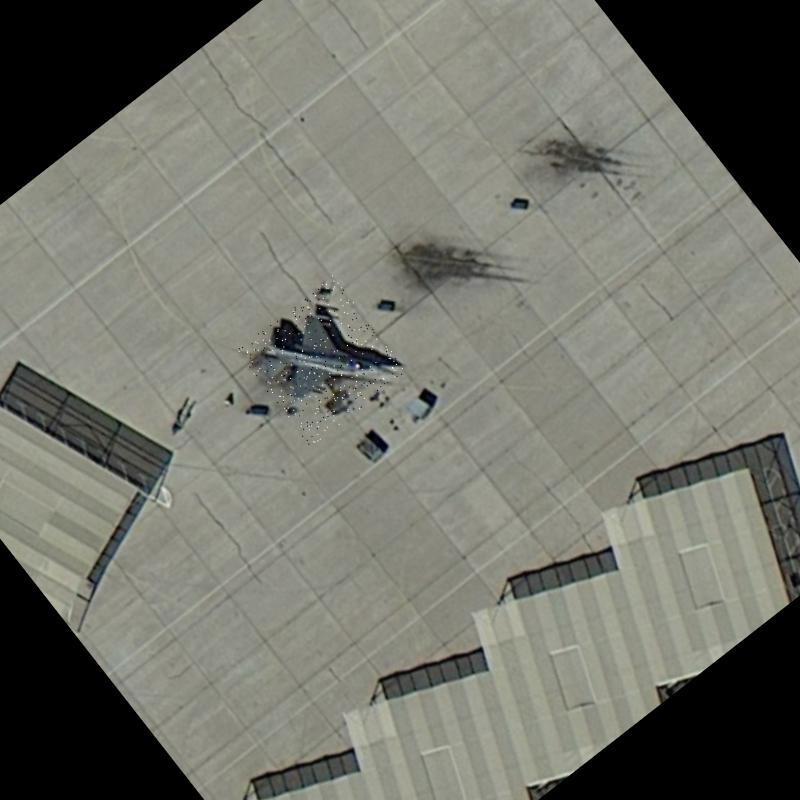A5: (236, 275, 408, 447)
